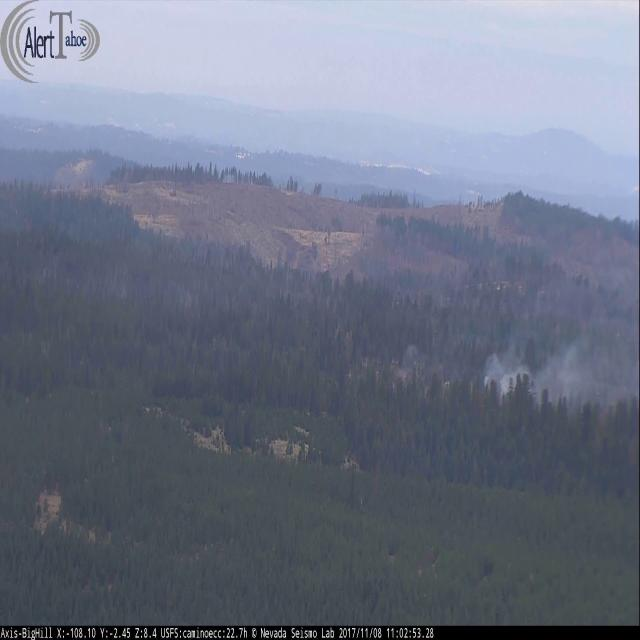smoke: (481, 220, 640, 415), (388, 343, 460, 381)
